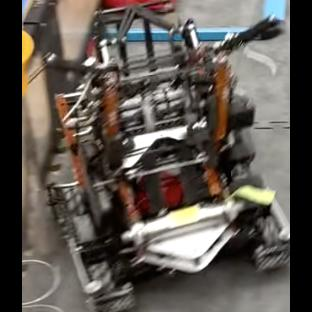Robot: (48, 6, 289, 311)
